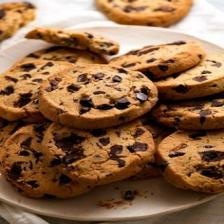brown: (1, 31, 224, 199), (96, 0, 193, 27), (0, 2, 35, 40)
